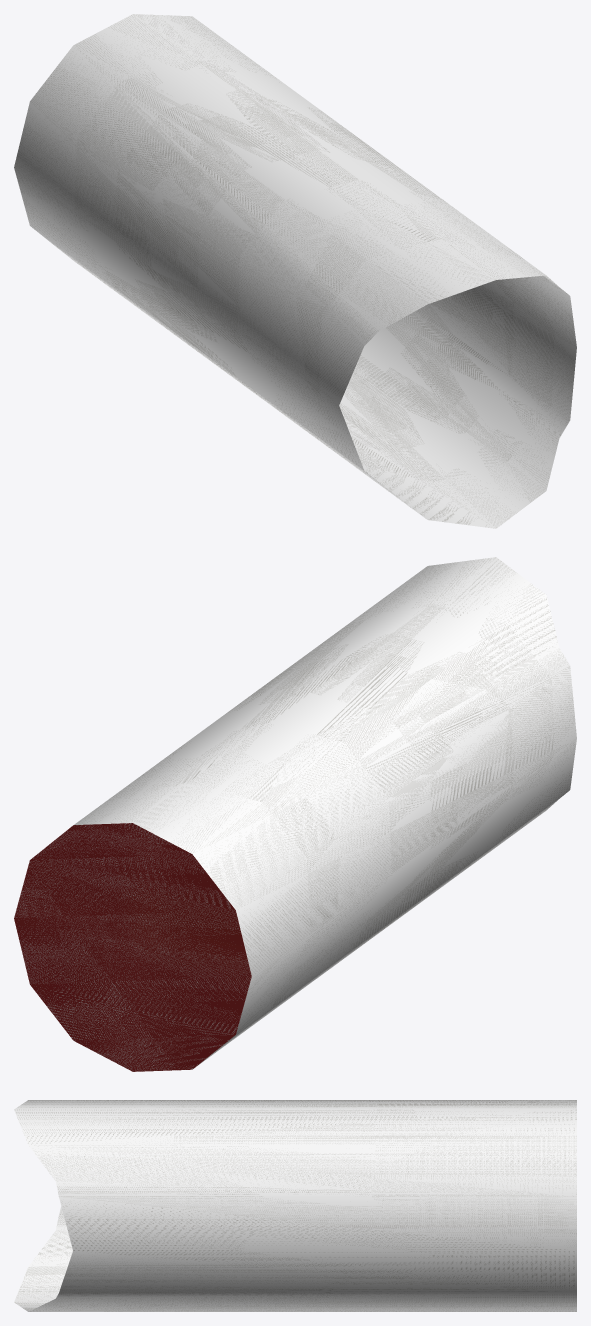
The model's file is original-62.obj.
3 views of the same model, one above another, from view 1: azimuth 30°, elevation 25°; view 2: azimuth 150°, elevation 25°; view 3: azimuth 270°, elevation 25° (orthographic). The views are drawn at different scales.
Parts seen in each view (by area): view 1: _7085_86_87_88_LT_b1/_7085_86_87_88_LT_b/mesh45/mesh45-geometry#; view 2: _7085_86_87_88_LT_b1/_7085_86_87_88_LT_b/mesh45/mesh45-geometry#; view 3: _7085_86_87_88_LT_b1/_7085_86_87_88_LT_b/mesh45/mesh45-geometry#.
Boxes of the visible parts, bbox=[...] form: _7085_86_87_88_LT_b1/_7085_86_87_88_LT_b/mesh45/mesh45-geometry#: bbox=[14, 14, 576, 528]; _7085_86_87_88_LT_b1/_7085_86_87_88_LT_b/mesh45/mesh45-geometry#: bbox=[14, 557, 576, 1071]; _7085_86_87_88_LT_b1/_7085_86_87_88_LT_b/mesh45/mesh45-geometry#: bbox=[14, 1100, 576, 1311].
Bounding box in the file's own units: 0.0149 × 0.0149 × 0.0394.
Materials: 3 (1 with a texture image).
